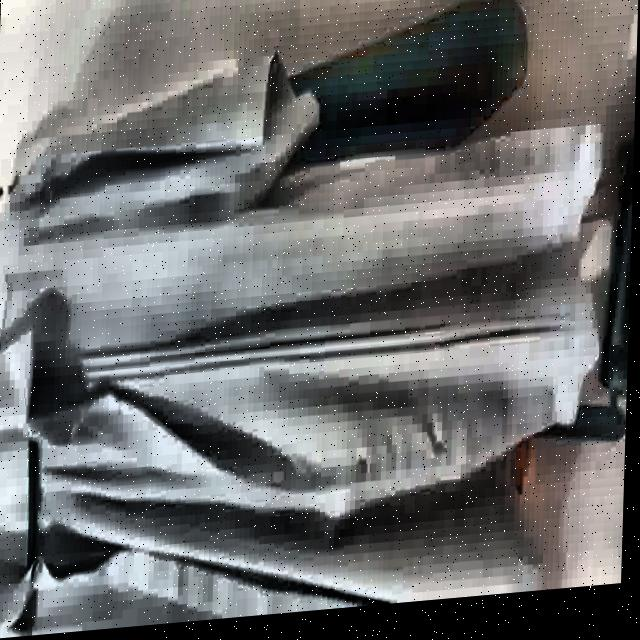clothes: (0, 14, 625, 632)
